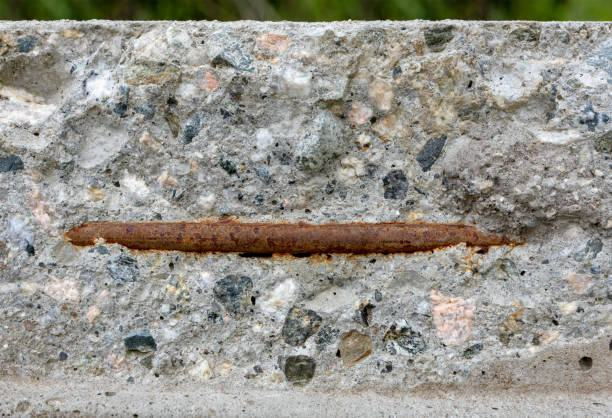Exposed reinforcement: (62, 219, 527, 255)
Spalling: (1, 17, 612, 395)
